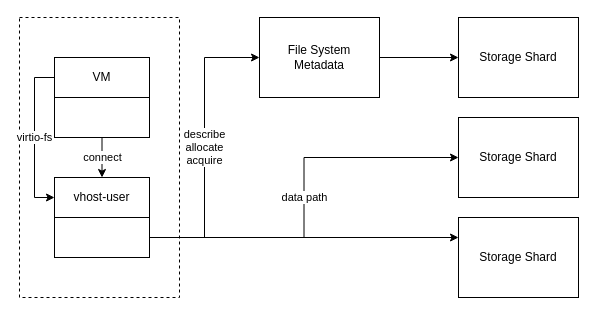
Image size: 596x315. Some labels were removed from this diagram. Each missing label, with the box of its shape:
Compute Host: (18, 16, 180, 298)
File System Cilent: (54, 216, 150, 258)
QEMU: (54, 96, 150, 138)
